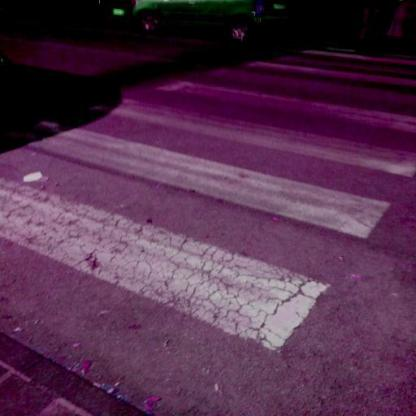crosswalk: (1, 116, 392, 354)
